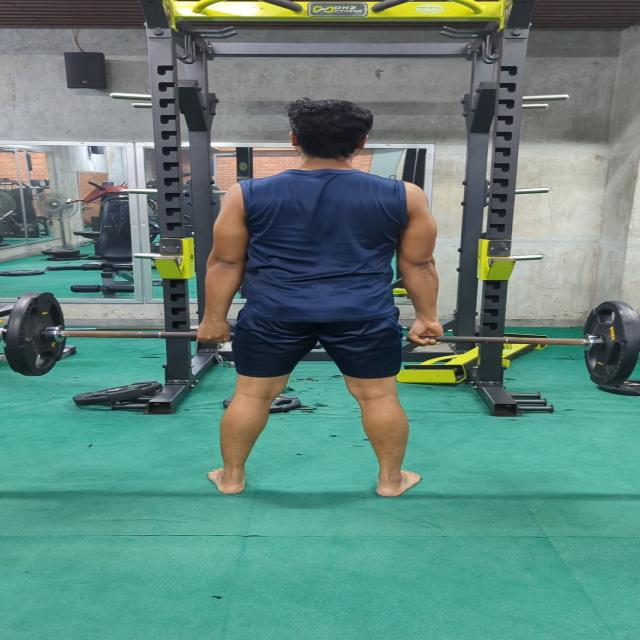Normal_Deadlifts: (192, 101, 448, 496)
